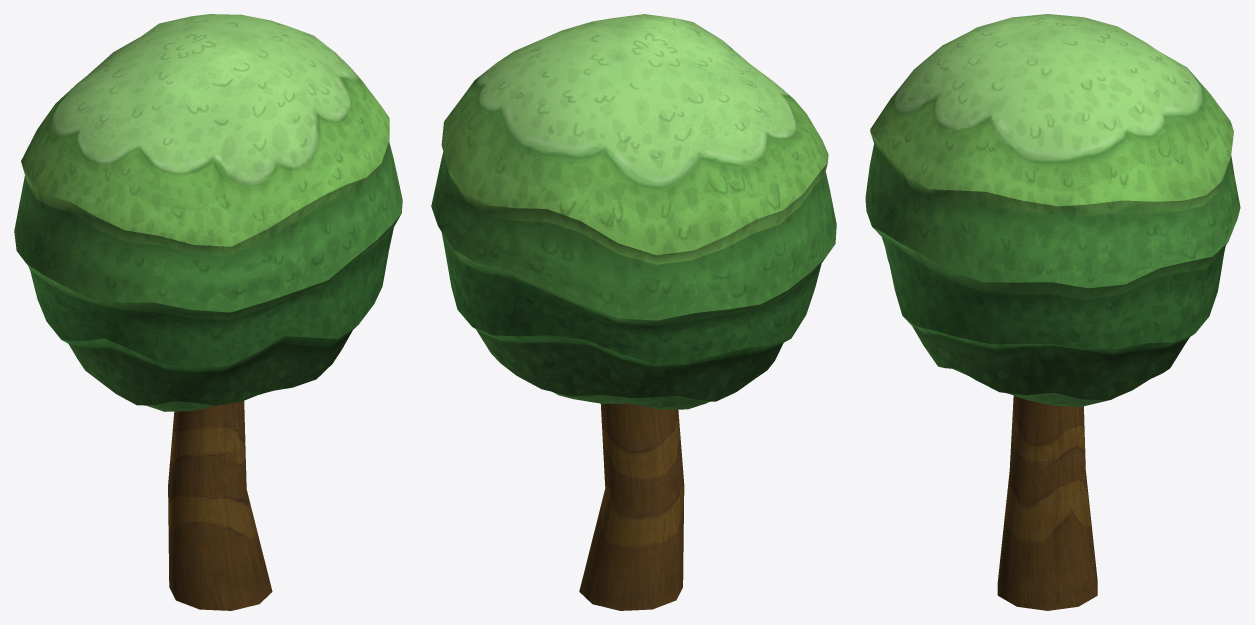
File: OakTree3.fbx
3 renders of one model, left to right at view 1: azimuth 30°, elevation 25°; view 2: azimuth 150°, elevation 25°; view 3: azimuth 270°, elevation 25°, orthographic.
Parts seen in each view (by area): view 1: Oak_Tree3; view 2: Oak_Tree3; view 3: Oak_Tree3.
Part boxes in pixels (left/top/right/bottom): Oak_Tree3: left=14, top=14, right=402, bottom=610; Oak_Tree3: left=431, top=14, right=836, bottom=610; Oak_Tree3: left=865, top=14, right=1240, bottom=610.
Bounding box in the file's own units: 522 × 797 × 484.
